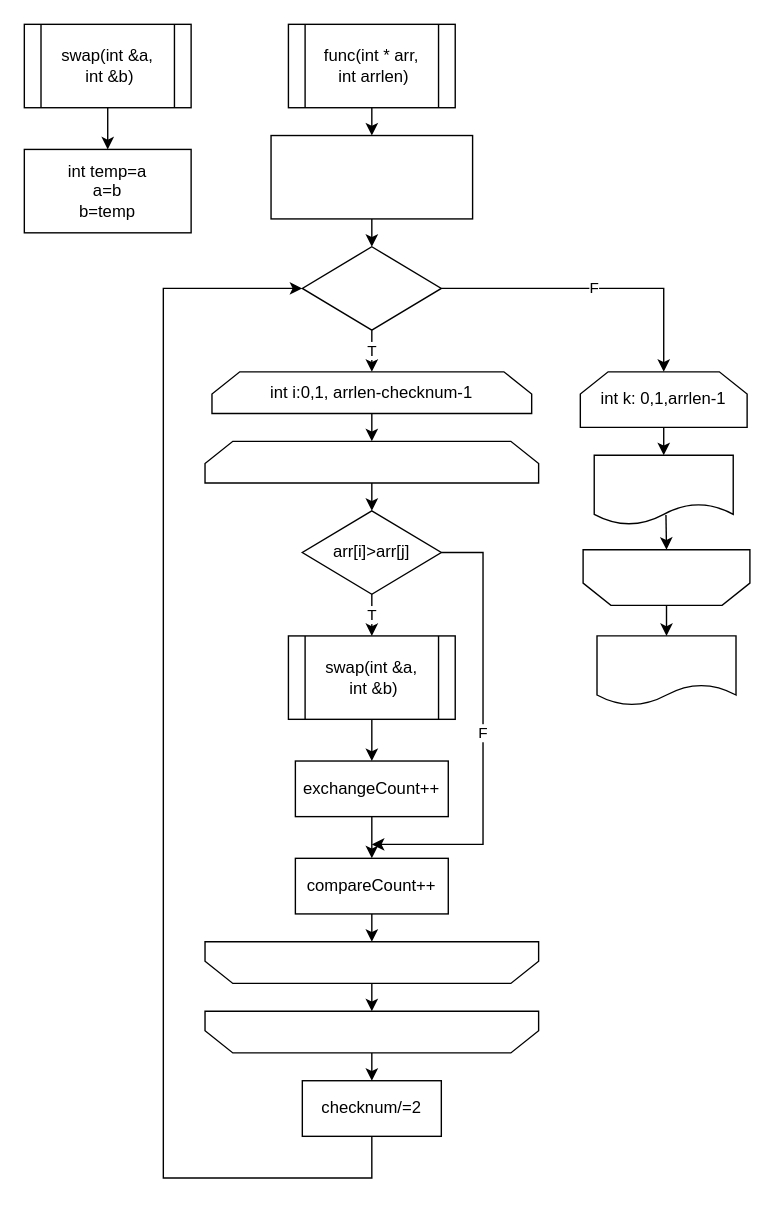
The diagram is 774 pixels wide and 1213 high, and some of its shapes have lost their labels. The shapes that lost their labels are listed below. From the top down, each one's box as (x1, y1, x2, y2) in pixels, then its label:
(270, 134, 473, 219): int checknum=arrlen/2 int compareCount=0 int exchangeCount=0
(301, 245, 441, 330): checknum>0
(204, 440, 539, 483): int j: i+checknum,checknum, arrlen-1
(593, 454, 733, 525): arr[i]출력
(596, 635, 736, 705): 비교횟수, 교환횟수 출력
